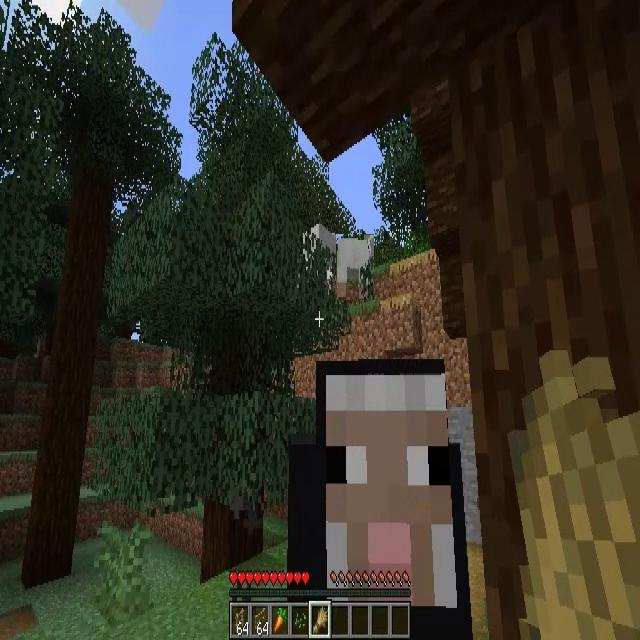sheep: (289, 359, 473, 640), (299, 226, 339, 292), (336, 234, 374, 300)
